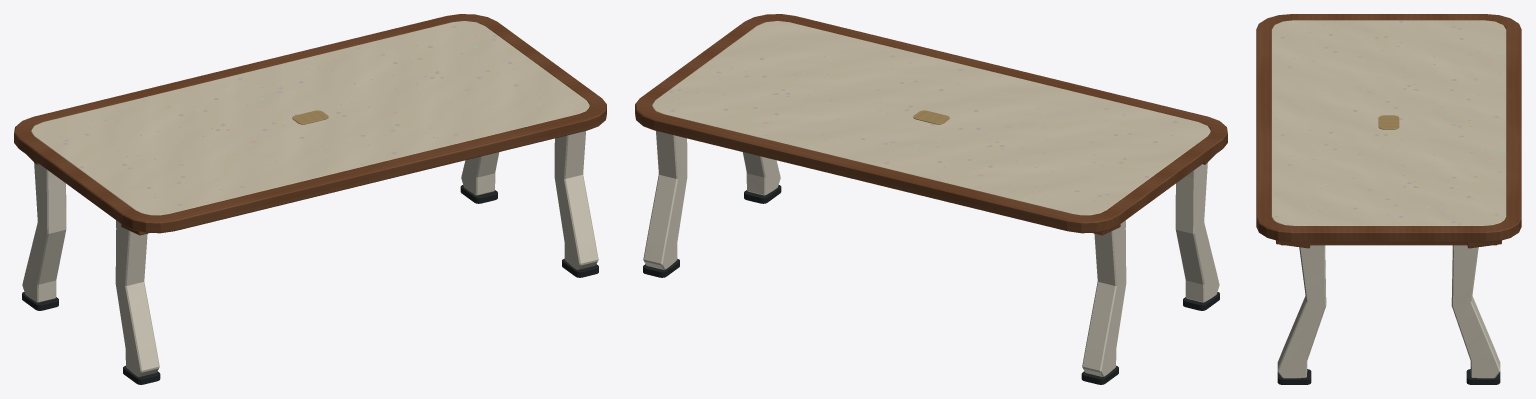
File: AST-LIB-STUDY-01.glb
3 renders of one model, left to right at view 1: azimuth 30°, elevation 25°; view 2: azimuth 150°, elevation 25°; view 3: azimuth 270°, elevation 25°, orthographic. The views are drawn at different scales.
Visible parts, largest first — view 1: AST-LIB-STUDY-01_static_visual; view 2: AST-LIB-STUDY-01_static_visual; view 3: AST-LIB-STUDY-01_static_visual.
Boxes of the visible parts, x1,y1,x2,y2 form: AST-LIB-STUDY-01_static_visual: [14, 14, 606, 384]; AST-LIB-STUDY-01_static_visual: [635, 14, 1227, 384]; AST-LIB-STUDY-01_static_visual: [1256, 14, 1521, 384].
Size of the model in its own units: 2.24 by 0.754 by 1.15.
5 materials, 5 textured.
